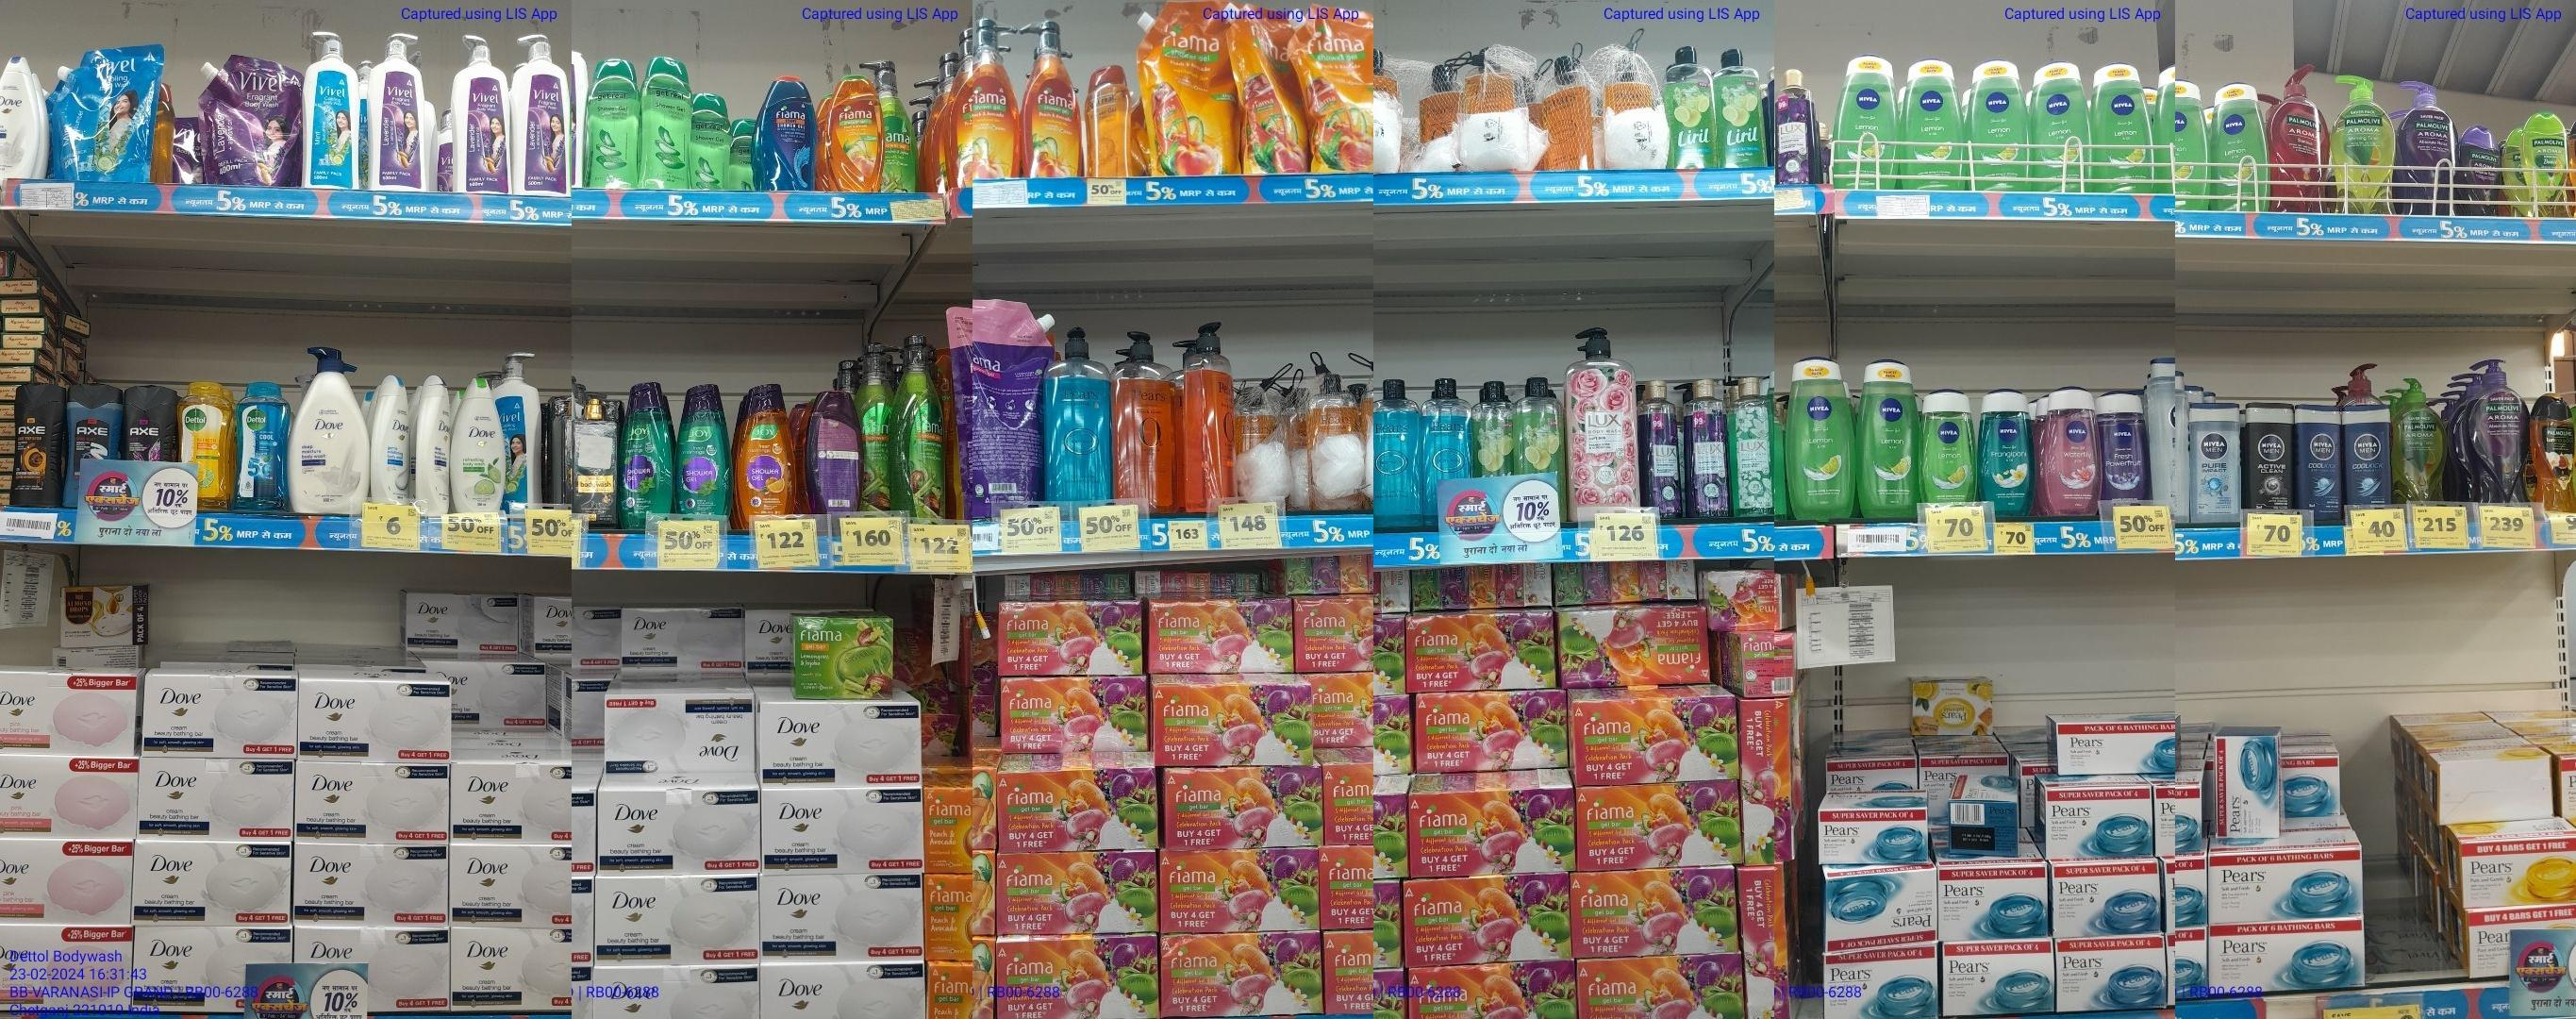Dettol_Bodywash_Cool: (235, 380, 286, 514)
Dettol_Bodywash_Refresh: (177, 381, 225, 513)
Dove_Deep_Moisture_Body_Wash_250ML: (416, 373, 452, 514)
Dove_Gentle_Exfoliating_Body_Wash_250ML: (376, 375, 412, 508)
Dove_Refreshing_Body_Wash_250ML: (452, 376, 504, 516)
Fiama_Shower_Gel_Peach_and_Avocado_250ML: (830, 72, 882, 196)
Joy_Shower_Gel_Mandarin_and_Lemongrass_250ML: (736, 383, 795, 531)
Joy_Shower_Gel_Mint_and_Eucalyptus_250ML: (674, 381, 731, 523), (619, 380, 669, 531)
Liril_Lime_and_Tea_Tree_Oil_Body_Wash_250ML: (1664, 44, 1715, 169), (1717, 44, 1768, 168), (1516, 375, 1561, 478), (1472, 378, 1515, 477)
Lux_Black_Orchid_Scent_and_Juniper_Oil_Body_Wash_245ML: (1641, 380, 1682, 523), (1684, 378, 1725, 518), (1776, 64, 1812, 186)
Lux_Body_Wash_Skin_Detox_Freesia_Scent_and_Alove_Vera_245ML: (1730, 373, 1776, 521)
Nivea_Shower_Gel_Frangipani_and_Oil_250ML: (1981, 386, 2034, 518)
Nivea_Shower_Gel_Fresh_Powerfruit_250ML: (2103, 393, 2147, 498)
Nivea_Shower_Gel_Lemon_and_Oil_250ML: (1787, 357, 1853, 523), (1858, 358, 1919, 519), (1838, 51, 1899, 196), (1902, 56, 1963, 194), (2031, 59, 2091, 196), (2095, 58, 2154, 197), (1968, 58, 2029, 192), (2213, 81, 2270, 214), (1922, 388, 1973, 505), (2173, 77, 2211, 210)
Nivea_Shower_Gel_Waterlily_and_Oil_250ML: (2045, 385, 2101, 518)
Palmolive_Aroma_Morning_Tonic_Shower_Gel_250ML: (2520, 108, 2571, 220)
Palmolive_Aroma_Relax_250ML: (2463, 125, 2502, 219)
Palmolive_Luminous_Oils_With_White_Orchid_Shower_Gel_250ML: (2538, 385, 2574, 513)
Pears_Pure_Glycerin_and_Mint_Extracts_Body_Wash_250ML: (1372, 375, 1421, 533), (1423, 376, 1470, 528)
